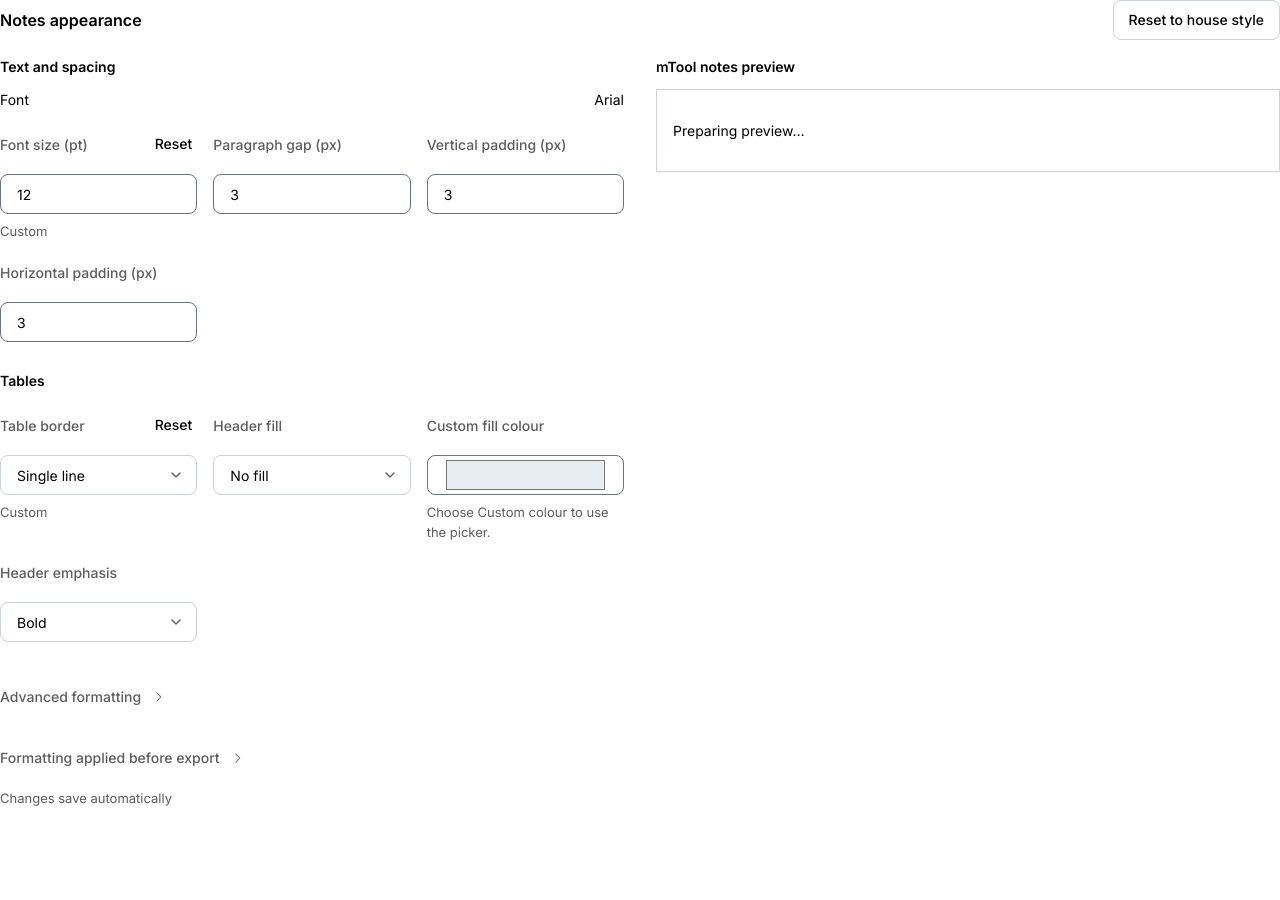
Notes appearance › field reset removes its override and whole reset removes all overrides
The width and height of the screenshot is (1280, 900).
Click the button with aria-label "Reset Font size (pt)": (174, 144) [150,124,197,164]
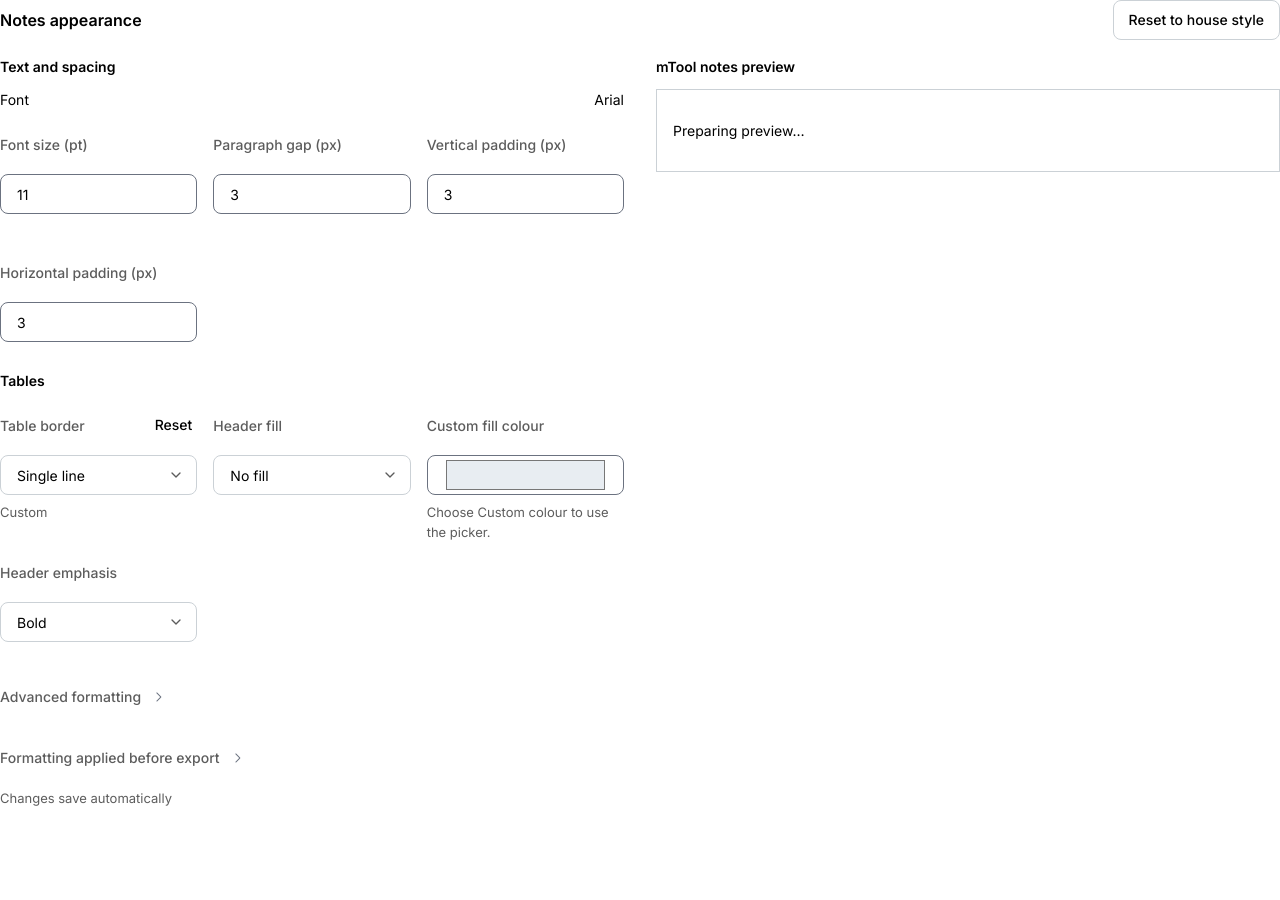
expect the dropdown labelled "Table border" shows "Single line": met, box [0,455,197,495]
expect the number field labelled "Font size (pt)" holds "11": met, box [0,174,197,214]
Click the button "Reset to house style": (1196, 20) [1113,0,1279,40]
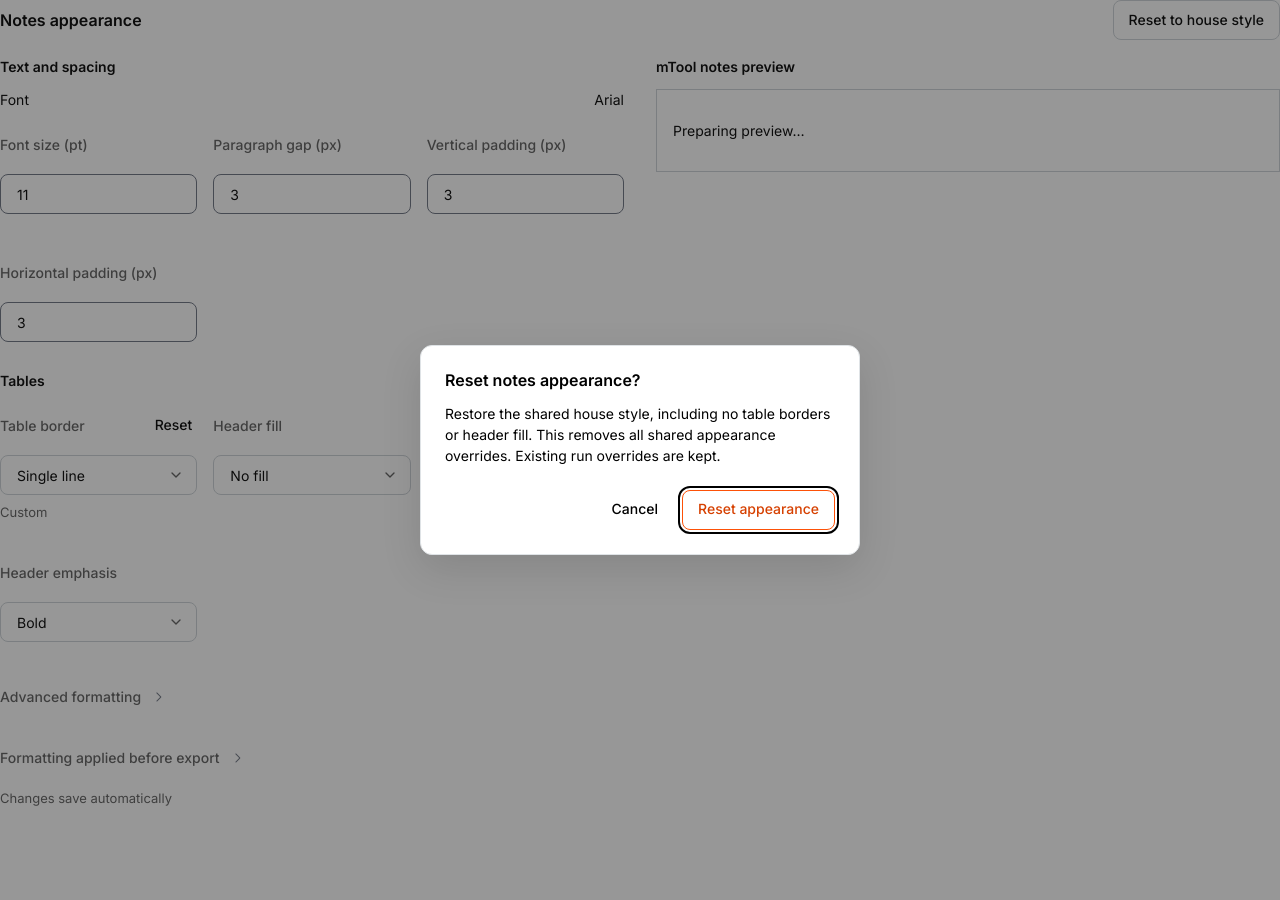
Click the button "Cancel": (635, 510) [596,490,674,530]
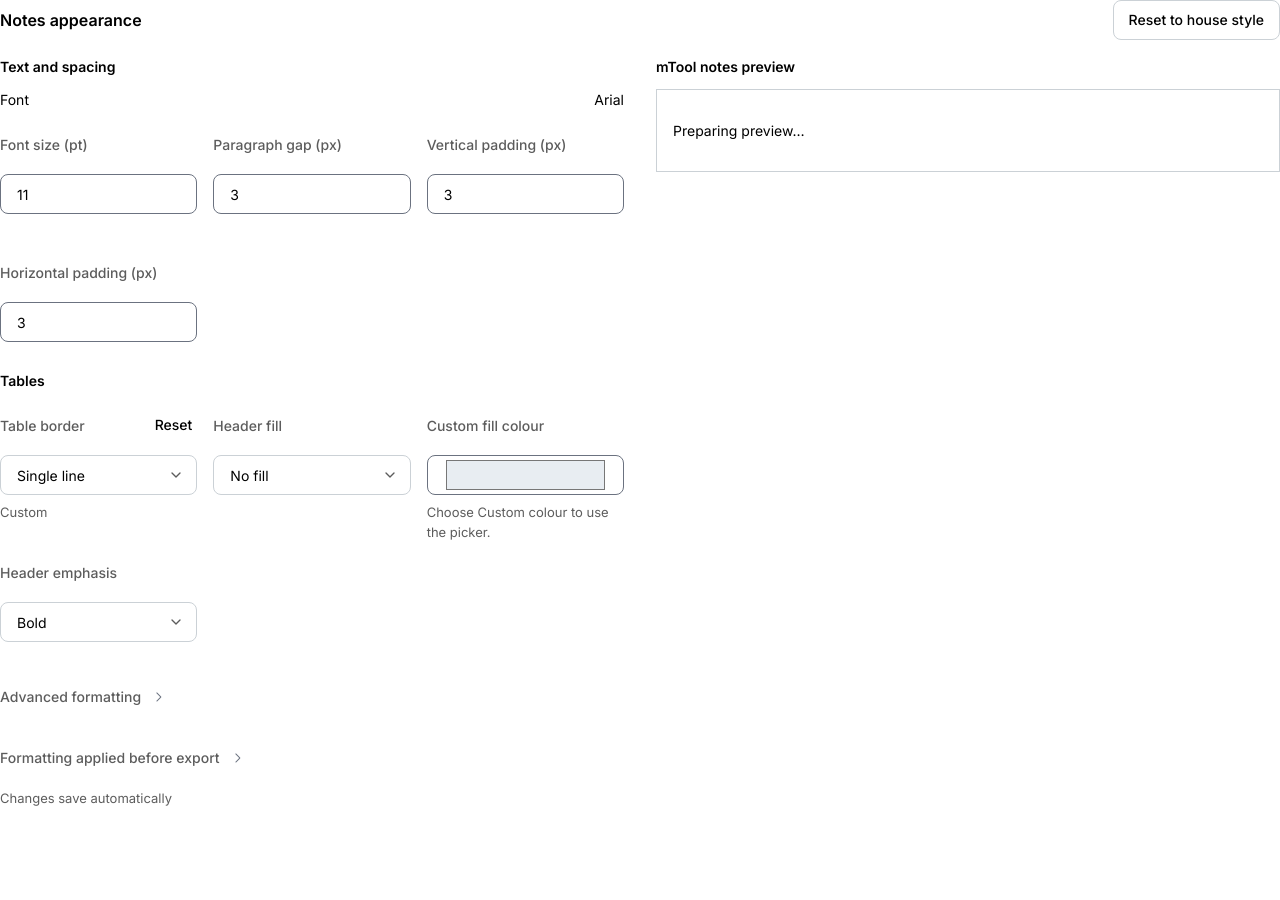
expect the dropdown labelled "Table border" shows "Single line": met, box [0,455,197,495]
Click the button "Reset to house style": (1196, 20) [1113,0,1279,40]
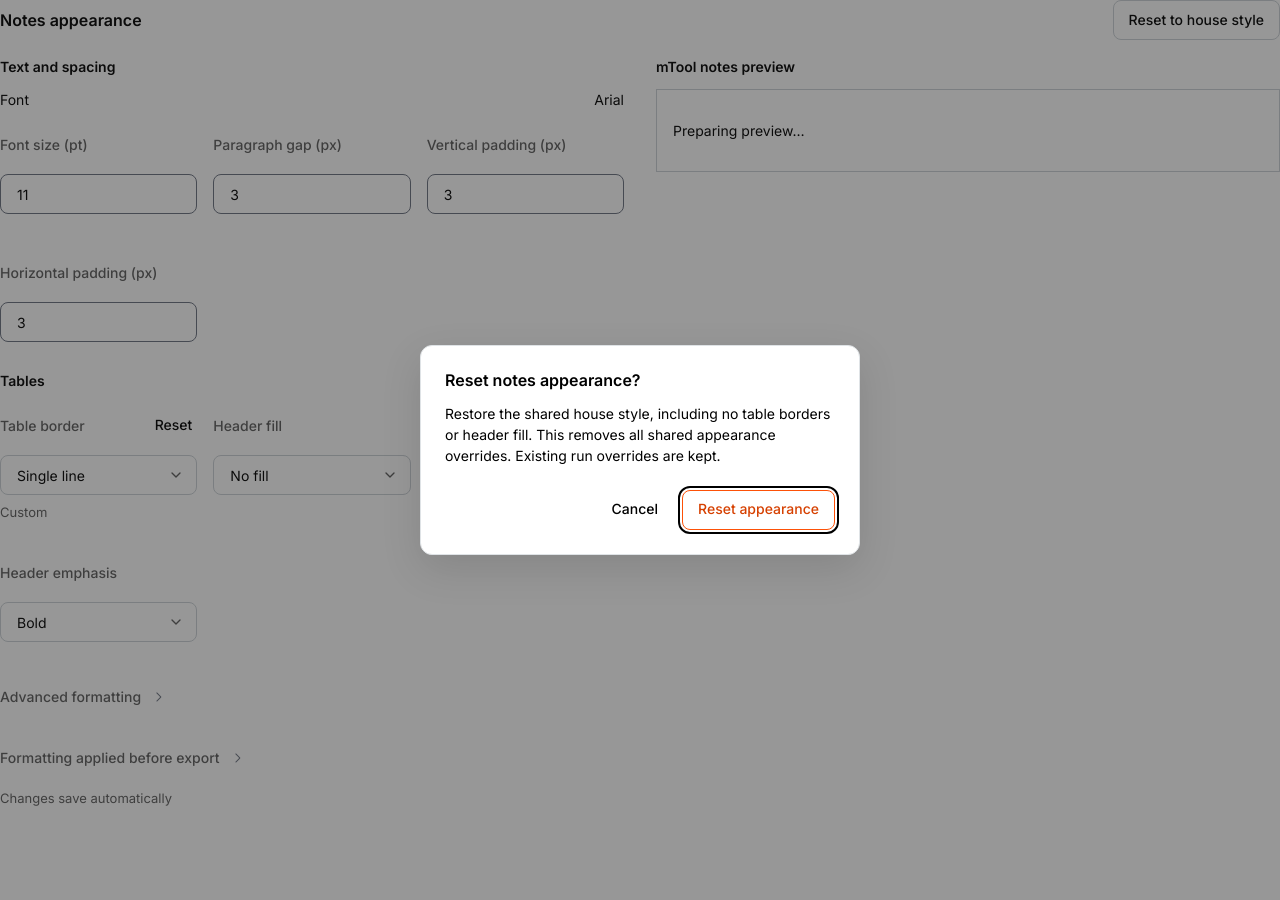
Click the button "Reset appearance": (758, 510) [682,490,835,530]
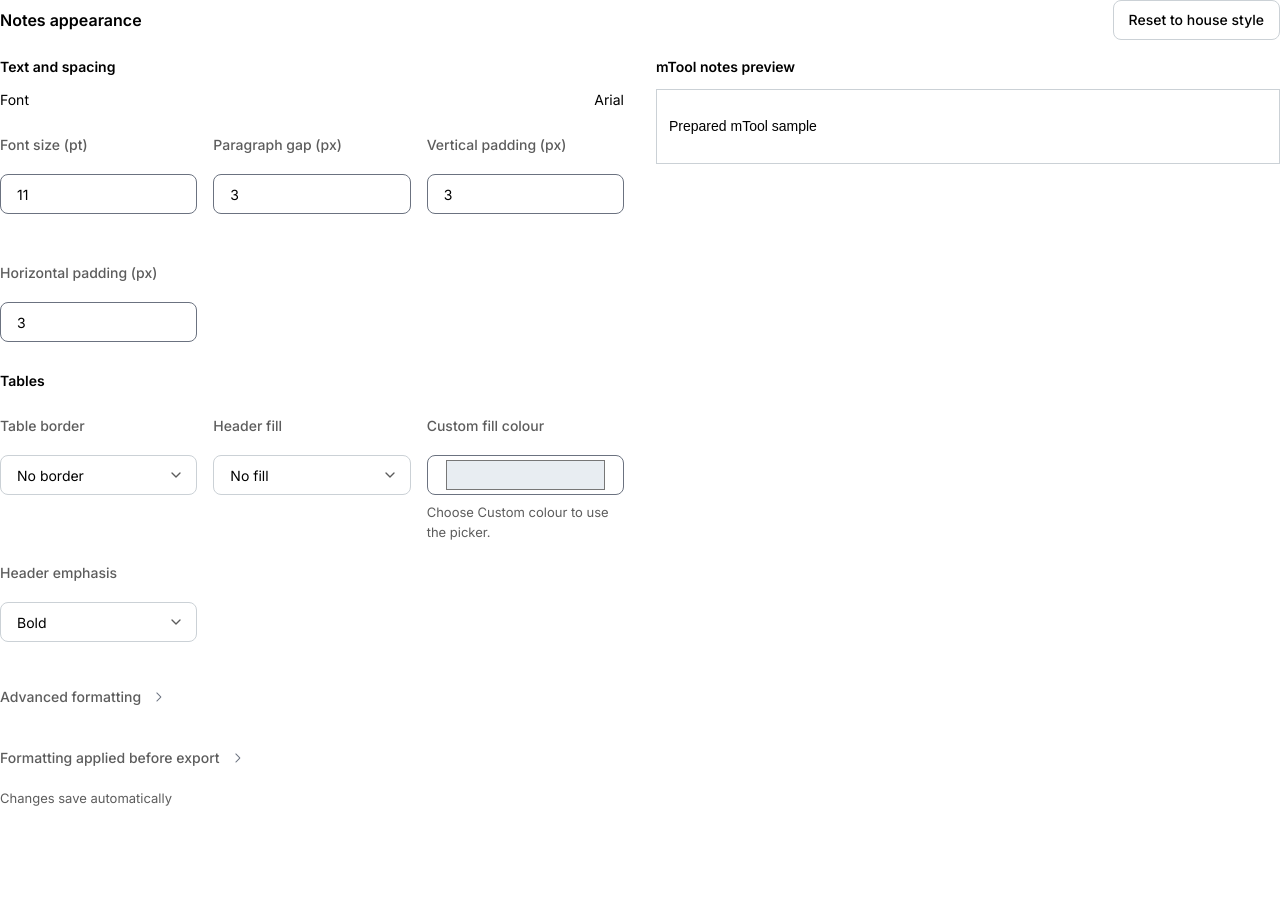
expect the dropdown labelled "Table border" shows "No border": met, box [0,455,197,495]
